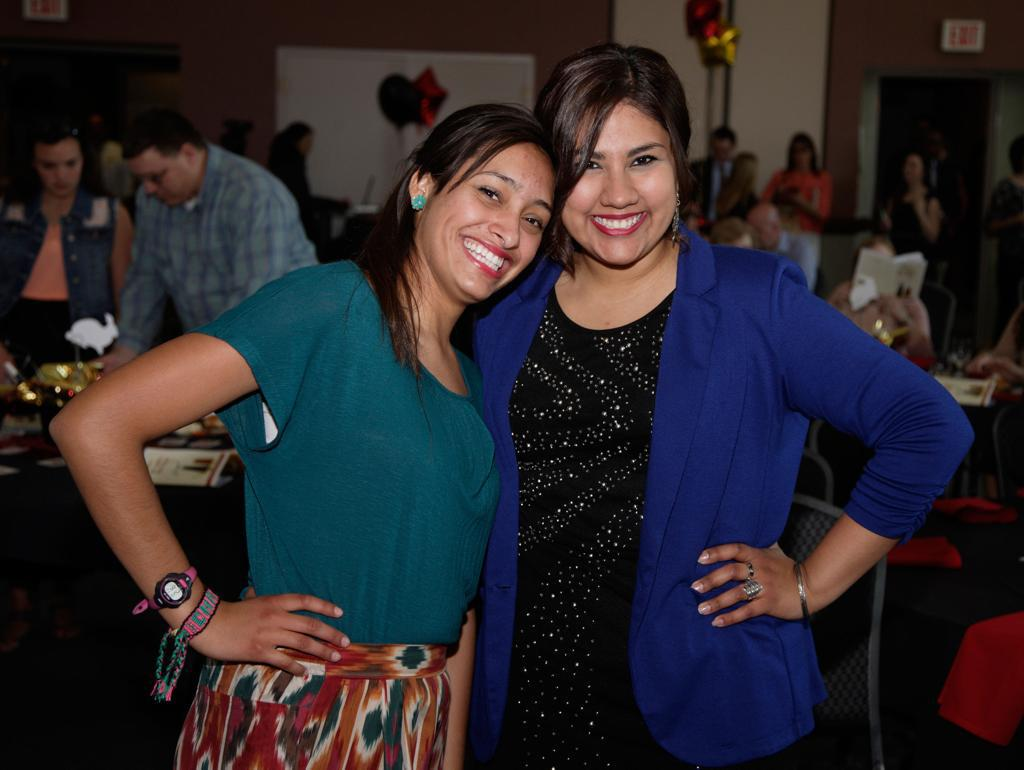face: (557, 109, 678, 266), (431, 153, 556, 301), (127, 147, 185, 206), (36, 146, 82, 194), (748, 221, 774, 249), (720, 221, 745, 250), (904, 158, 921, 185), (739, 160, 755, 188), (714, 140, 730, 160), (795, 148, 810, 167), (299, 137, 313, 155)
